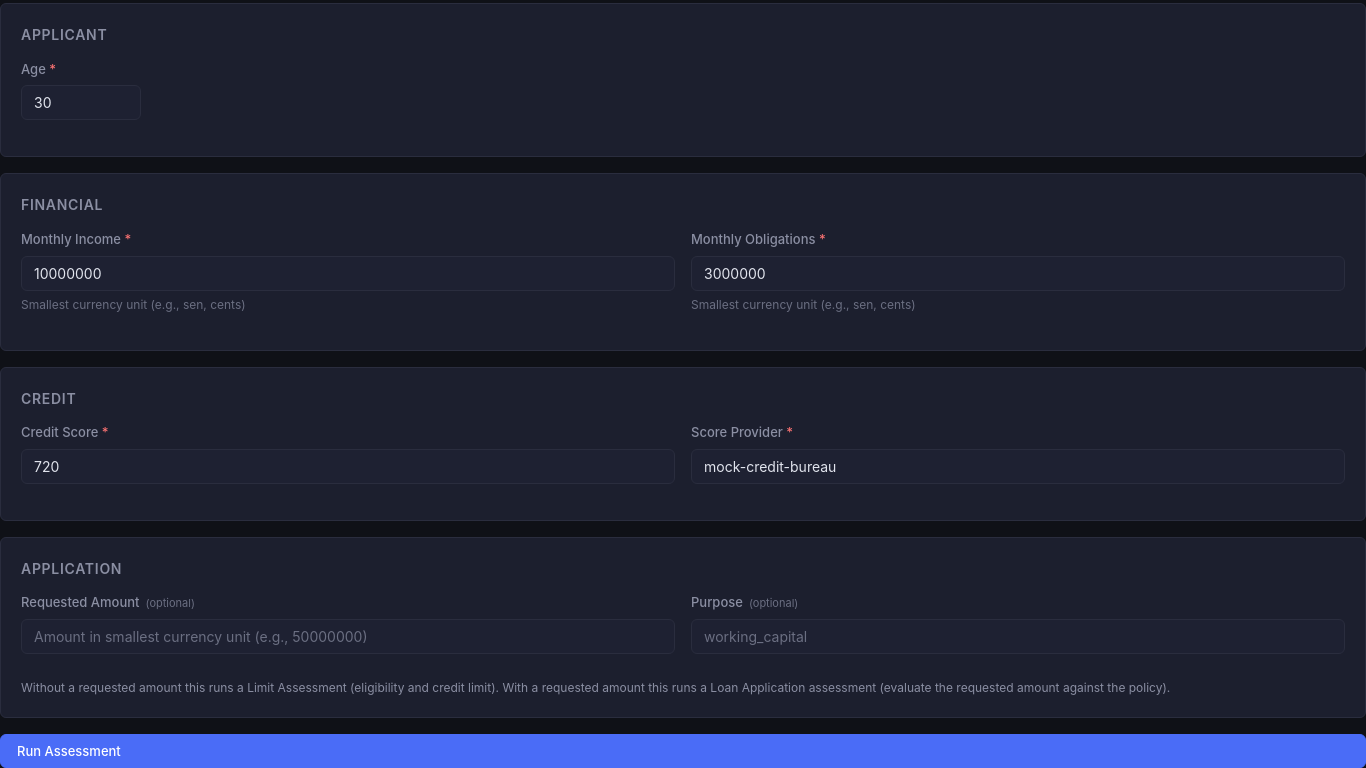
NewAssessment (Assessment Simulator) › renders the decision result from the backend
(page scrolled)
Click the button "Run Assessment": x=69, y=751 [0,734,1365,767]
(page scrolled)
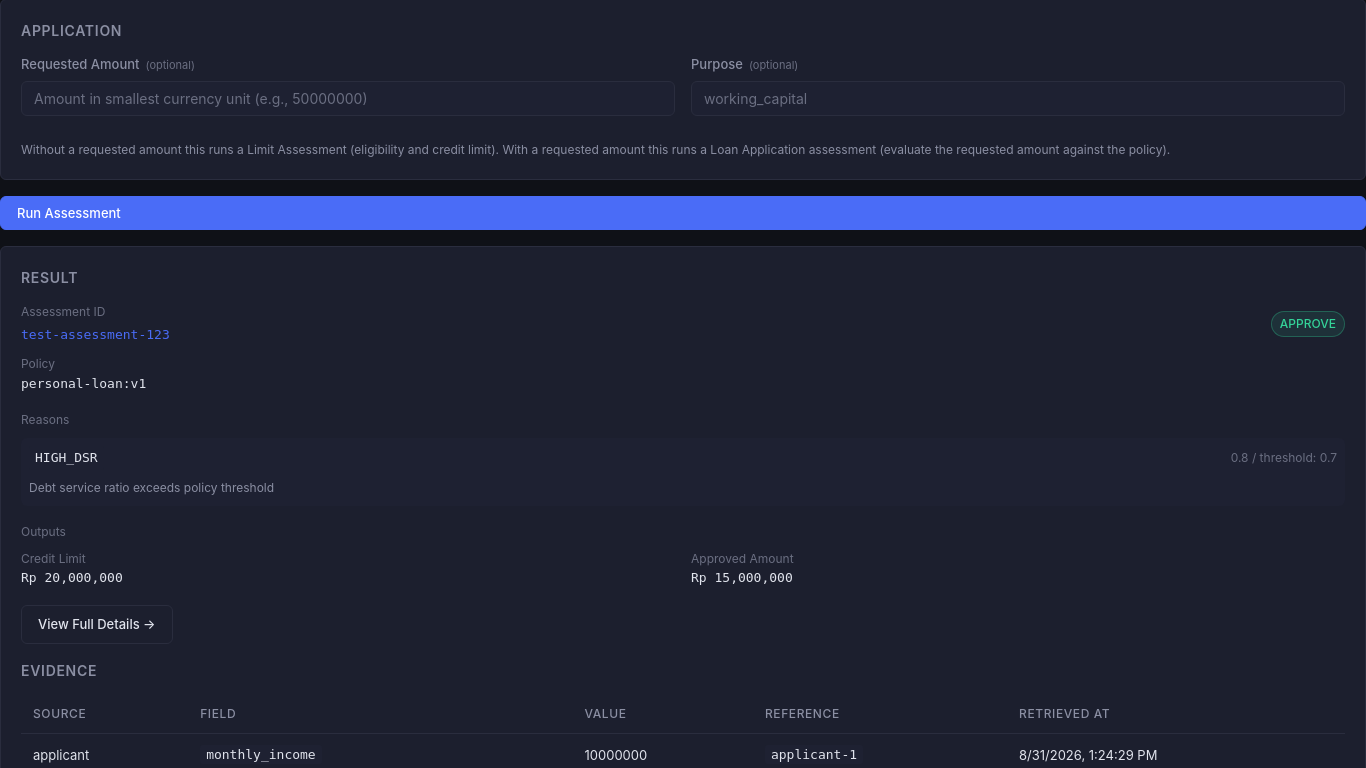
Check: the text "APPROVE" is shown, box [1271,312,1345,337]
Check: the link "test-assessment-123" is shown, box [21,327,170,342]
Check: the text "personal-loan:v1" is shown, box [21,376,146,391]
